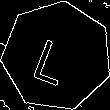L_N: (33, 27, 81, 85)
